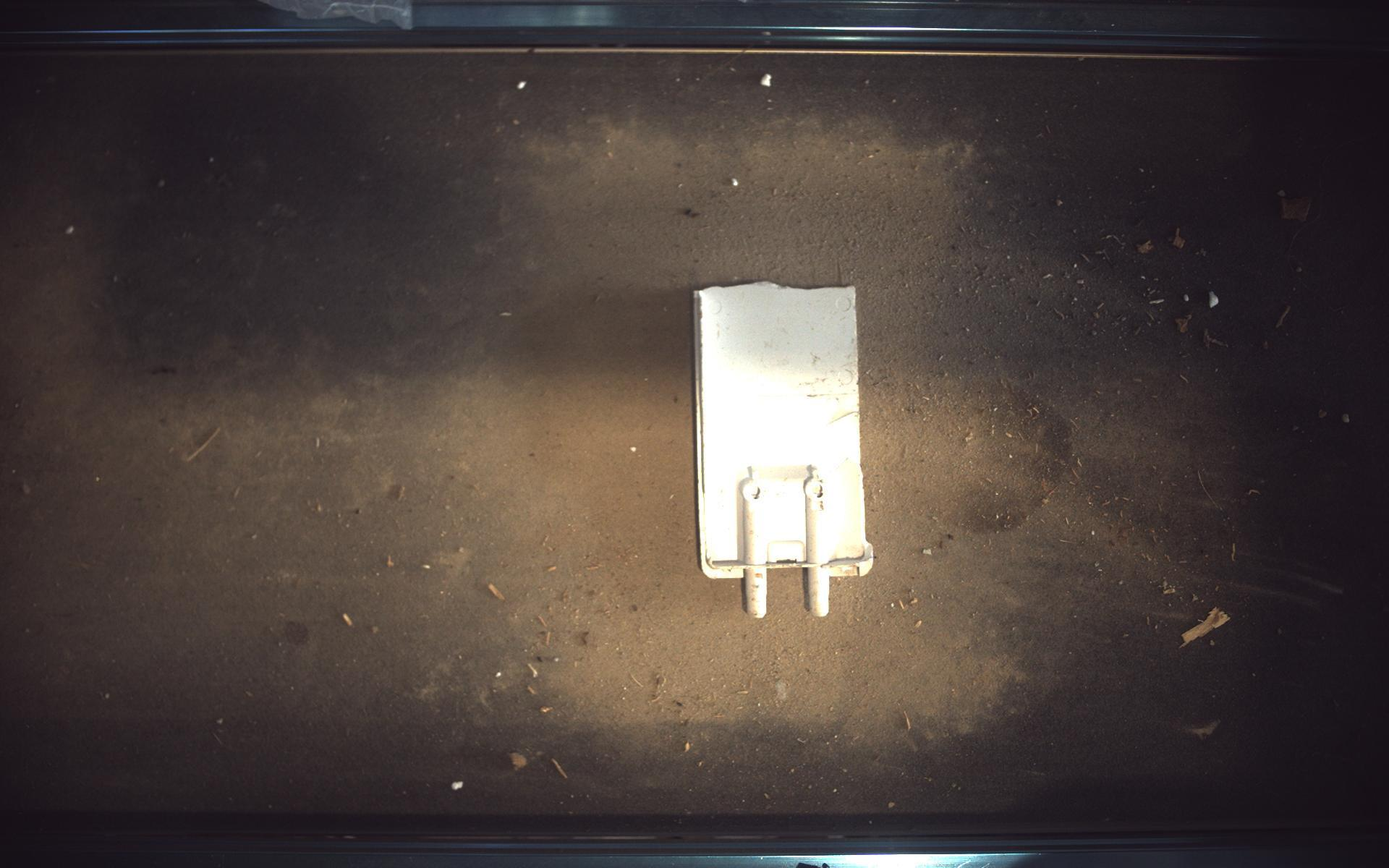plastic: (695, 281, 875, 618)
